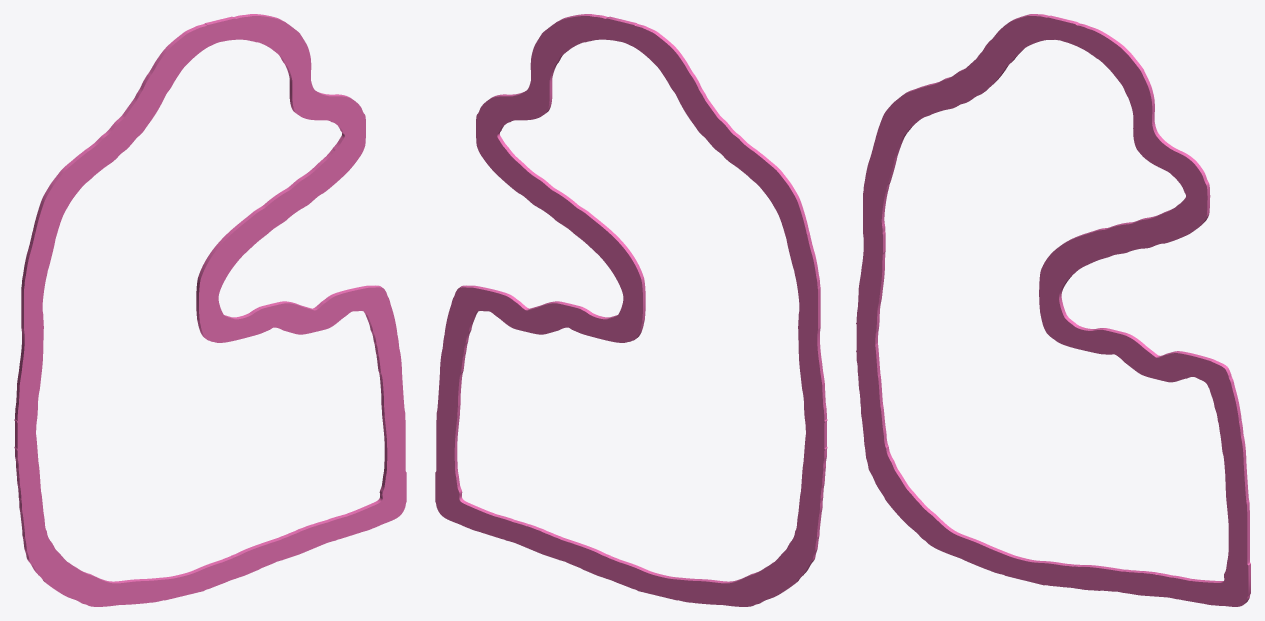
The model's file is PinkPathwithDecal.glb.
3 views of the same model, side by side, from view 1: azimuth 30°, elevation 25°; view 2: azimuth 150°, elevation 25°; view 3: azimuth 330°, elevation 25° (orthographic).
Visible parts, largest first — view 1: Mesh_1; view 2: Mesh_1; view 3: Mesh_1.
Boxes of the visible parts, box(x1,y1,x2,y2) form: Mesh_1: box(14, 14, 406, 606); Mesh_1: box(435, 14, 827, 606); Mesh_1: box(856, 14, 1250, 606).
Size of the model in its own units: 0.2813 by 0.3898 by 0.0033.
